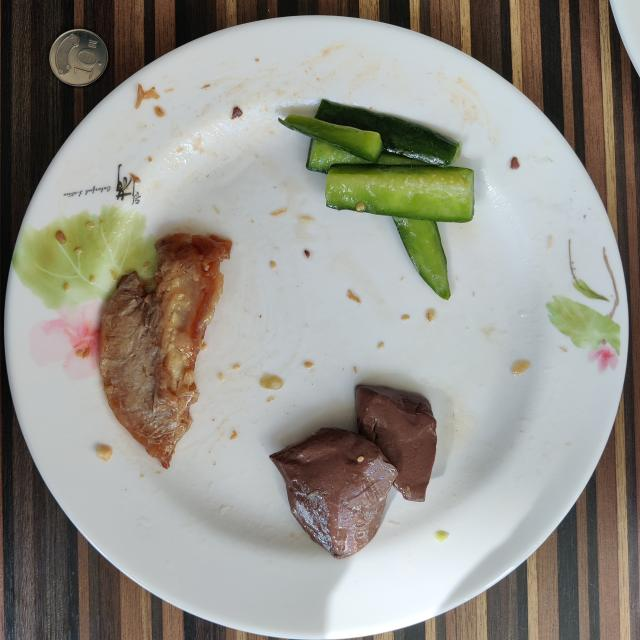Kabayaki sea bream fillet: (100, 232, 232, 468)
coin: (49, 29, 108, 86)
cucumber: (279, 100, 474, 299)
pig blood curd: (270, 385, 436, 559)
